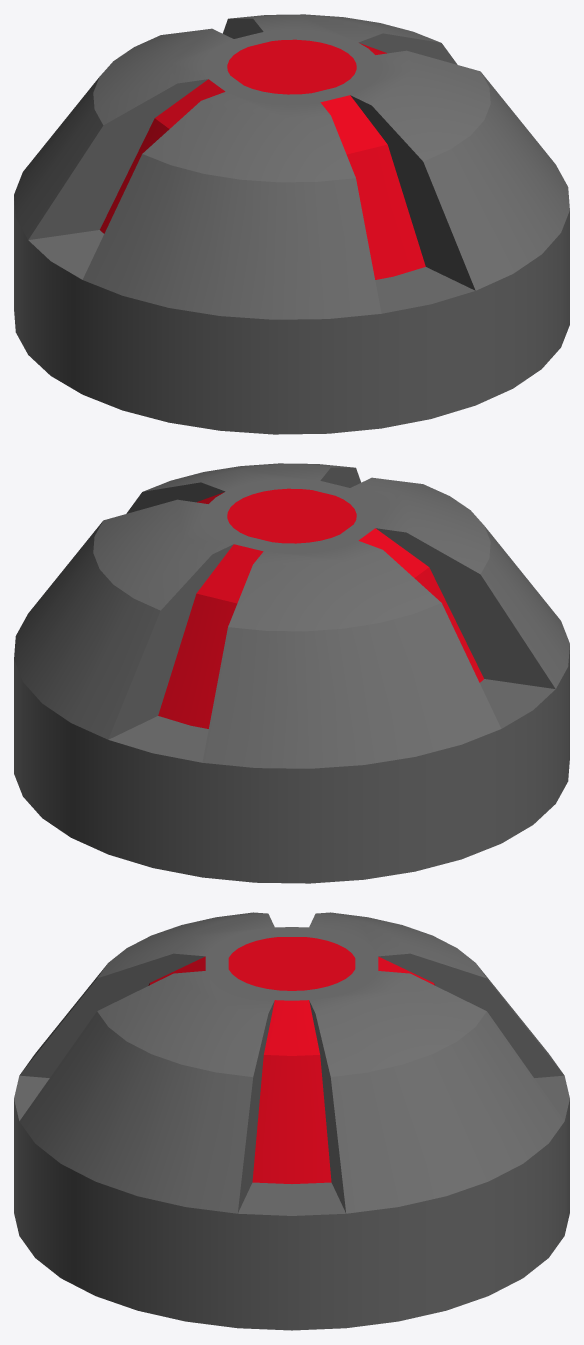
File: EnemyBase_Mine.fbx
3 renders of one model, top to bottom at view 1: azimuth 30°, elevation 25°; view 2: azimuth 150°, elevation 25°; view 3: azimuth 270°, elevation 25°, orthographic.
Parts seen in each view (by area): view 1: Mine; view 2: Mine; view 3: Mine.
Boxes of the visible parts, left/top/right/bottom form: Mine: left=14, top=14, right=569, bottom=434; Mine: left=14, top=463, right=569, bottom=883; Mine: left=14, top=912, right=569, bottom=1330.
Bounding box in the file's own units: 76.34 × 37.79 × 76.34.
